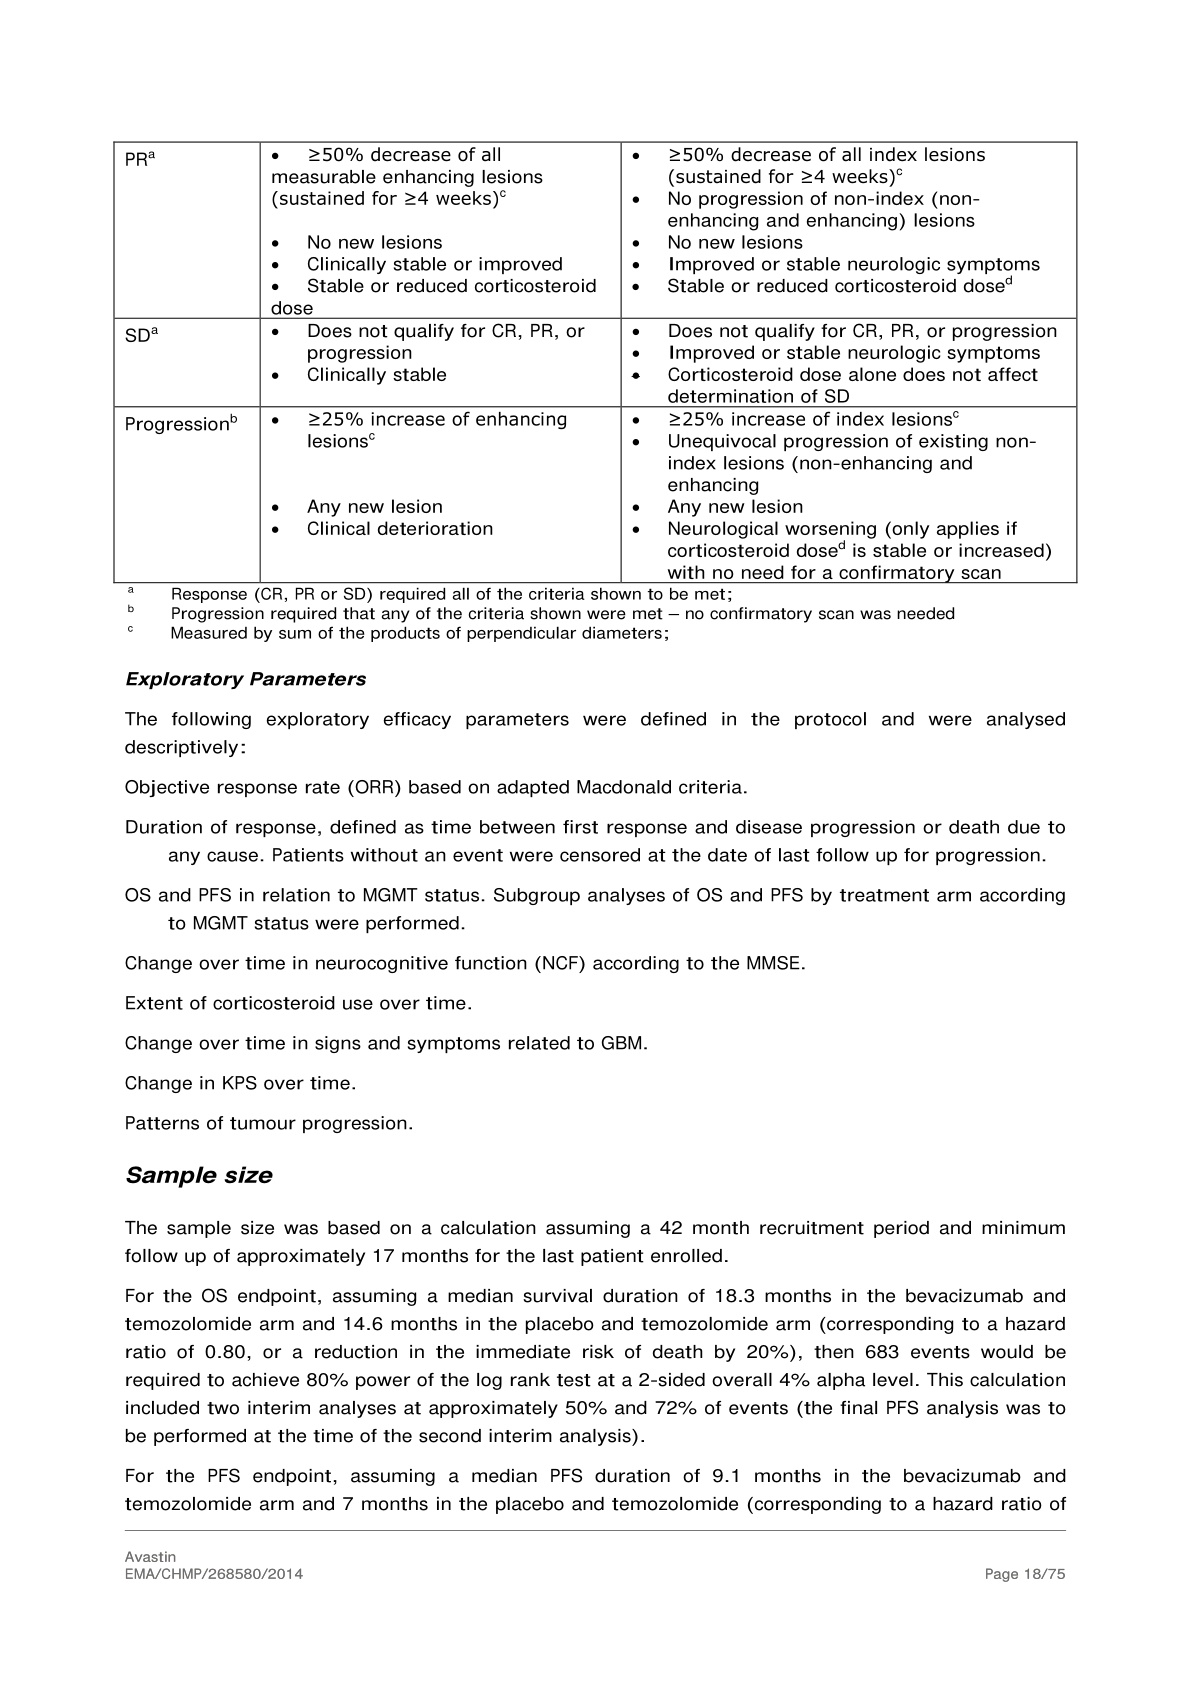full_lined: (112, 139, 1078, 584)
